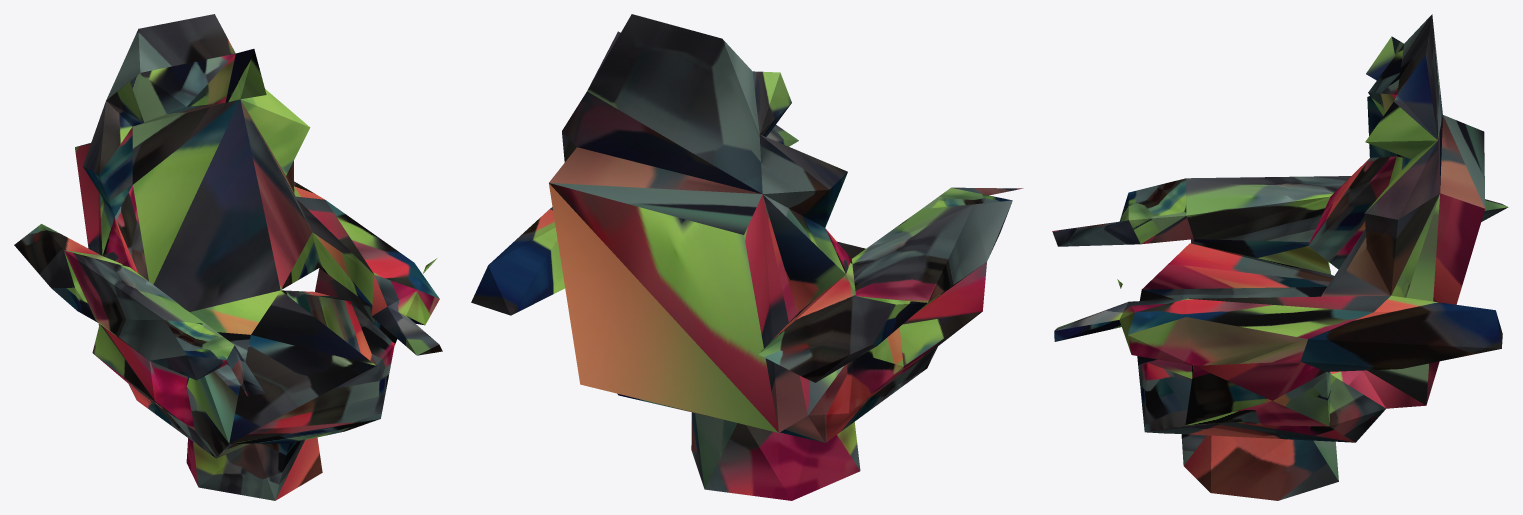
The picture shows the model from 3 angles, left to right: view 1: azimuth 30°, elevation 25°; view 2: azimuth 150°, elevation 25°; view 3: azimuth 270°, elevation 25°; orthographic projection. The views are drawn at different scales.
Visible parts, largest first — view 1: ai_model; view 2: ai_model; view 3: ai_model.
Boxes of the visible parts, x1,y1,x2,y2 form: ai_model: (14,14,442,500); ai_model: (471,14,1023,500); ai_model: (1052,14,1508,500).
Bounding box in the file's own units: 0.6336 × 0.8768 × 0.8268.
